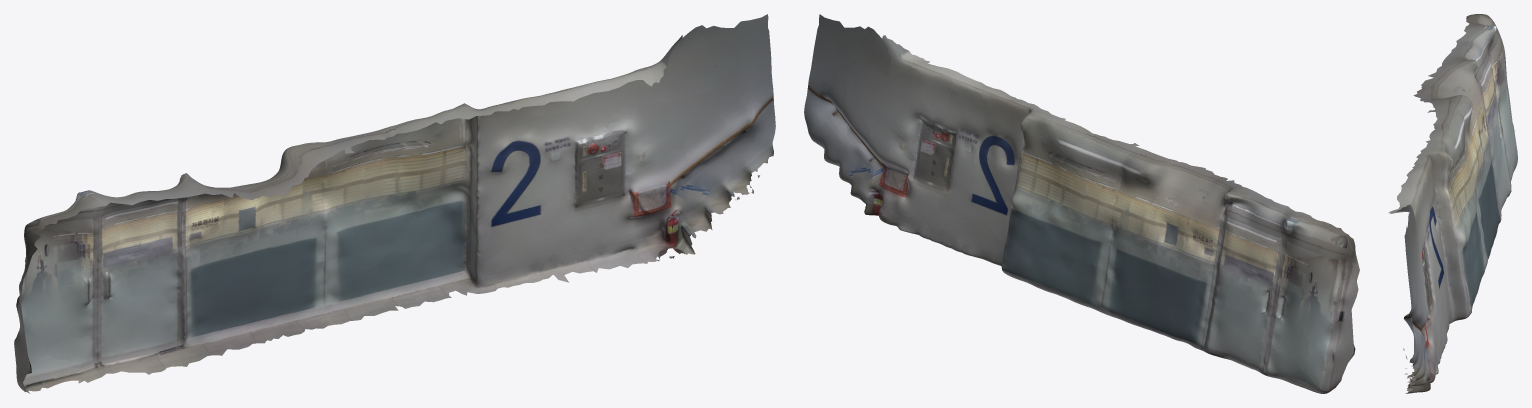
The model's file is 자료정리실.fbx.
3 views of the same model, side by side, from view 1: azimuth 30°, elevation 25°; view 2: azimuth 150°, elevation 25°; view 3: azimuth 270°, elevation 25° (orthographic). The views are drawn at different scales.
Parts seen in each view (by area): view 1: Untitled; view 2: Untitled; view 3: Untitled.
Boxes of the visible parts, <box> form: Untitled: <box>14,14,775,393</box>; Untitled: <box>804,14,1359,393</box>; Untitled: <box>1388,14,1517,393</box>.
Bounding box in the file's own units: 248 × 85.77 × 46.01.
1 material, 1 textured.
